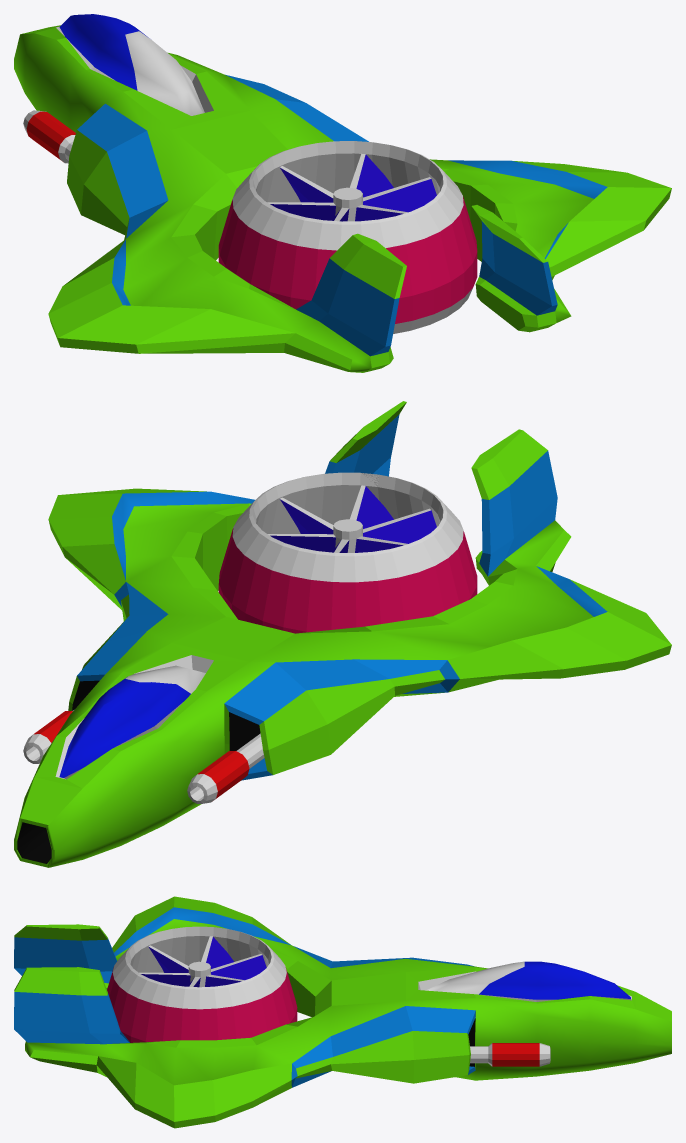
The model's file is UFighter3.fbx.
3 views of the same model, one above another, from view 1: azimuth 30°, elevation 25°; view 2: azimuth 150°, elevation 25°; view 3: azimuth 270°, elevation 25° (orthographic). The views are drawn at different scales.
Parts seen in each view (by area): view 1: Chassis, ImpellarFrame, Impellar, MainGun; view 2: Chassis, ImpellarFrame, Impellar, MainGun; view 3: Chassis, ImpellarFrame, Impellar, MainGun.
Part boxes in pixels (x1=…): Chassis: x1=14, y1=14, x2=671, y2=372; ImpellarFrame: x1=218, y1=141, x2=477, y2=333; Impellar: x1=267, y1=153, x2=436, y2=221; MainGun: x1=23, y1=110, x2=75, y2=163; Chassis: x1=14, y1=401, x2=671, y2=867; ImpellarFrame: x1=218, y1=472, x2=477, y2=633; Impellar: x1=268, y1=485, x2=436, y2=552; MainGun: x1=23, y1=710, x2=264, y2=803; Chassis: x1=14, y1=896, x2=671, y2=1128; ImpellarFrame: x1=107, y1=926, x2=297, y2=1042; Impellar: x1=139, y1=936, x2=266, y2=987; MainGun: x1=470, y1=1043, x2=550, y2=1066.
Bounding box in the file's own units: 961 × 250 × 1185.
